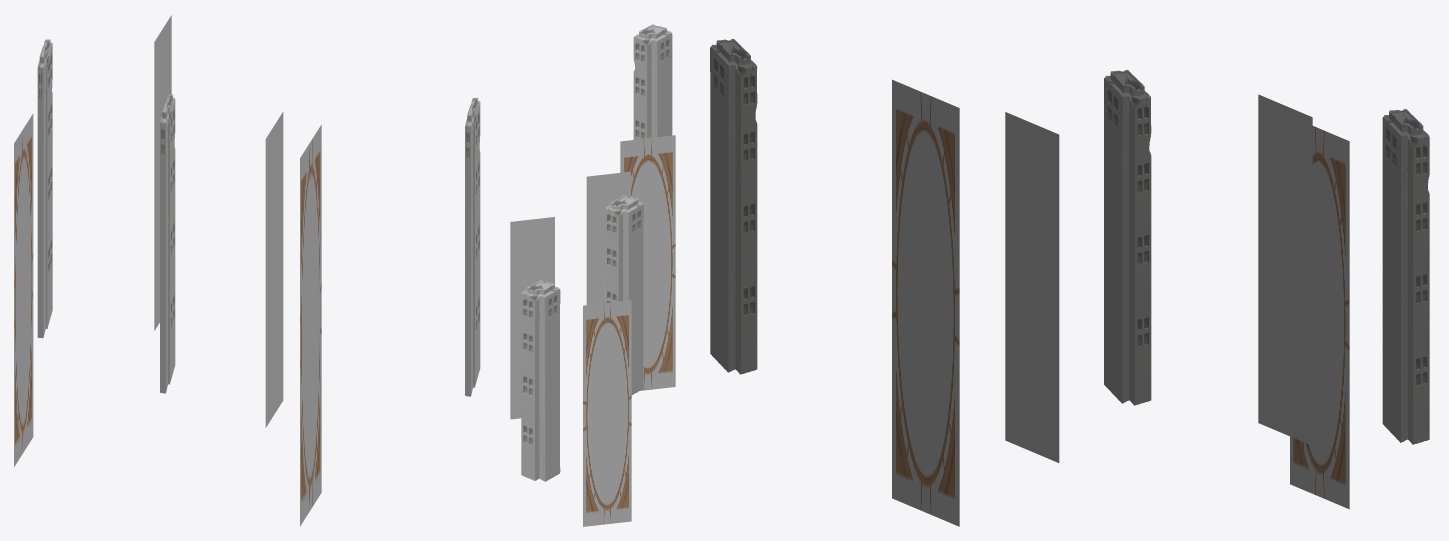
The model's file is Main_1004_obj_04.fbx.
3 views of the same model, side by side, from view 1: azimuth 30°, elevation 25°; view 2: azimuth 150°, elevation 25°; view 3: azimuth 270°, elevation 25° (orthographic). The views are drawn at different scales.
Visible parts, largest first — view 1: Main_1003_Tex_01_07, Main_1003_Tex_01_07.001, Main_1003_Tex_01_05, Main_1003_Tex_01_06.002, Main_1003_Tex_01_06, Main_1003_Tex_01_06.001, Main_1003_Tex_01_05.001; view 2: Main_1003_Tex_01_07.001, Main_1003_Tex_01_07, Main_1003_Tex_01_06.002, Main_1003_Tex_01_06.001, Main_1003_Tex_01_05.001, Main_1003_Tex_01_06, Main_1003_Tex_01_05; view 3: Main_1003_Tex_01_07, Main_1003_Tex_01_05.001, Main_1003_Tex_01_05, Main_1003_Tex_01_06.002, Main_1003_Tex_01_06, Main_1003_Tex_01_06.001, Main_1003_Tex_01_07.001.
Boxes of the visible parts, box(x1,y1,x2,y2) form: Main_1003_Tex_01_07: box(300, 124, 321, 526); Main_1003_Tex_01_07.001: box(14, 113, 33, 466); Main_1003_Tex_01_05: box(265, 112, 283, 427); Main_1003_Tex_01_06.002: box(37, 39, 52, 338); Main_1003_Tex_01_06: box(465, 97, 480, 396); Main_1003_Tex_01_06.001: box(160, 94, 175, 393); Main_1003_Tex_01_05.001: box(154, 15, 171, 330); Main_1003_Tex_01_07.001: box(583, 300, 631, 526); Main_1003_Tex_01_07: box(620, 135, 675, 390); Main_1003_Tex_01_06.002: box(521, 280, 560, 481); Main_1003_Tex_01_06.001: box(605, 195, 643, 395); Main_1003_Tex_01_05.001: box(510, 217, 554, 419); Main_1003_Tex_01_06: box(633, 24, 672, 139); Main_1003_Tex_01_05: box(586, 171, 630, 304); Main_1003_Tex_01_07: box(892, 79, 959, 526); Main_1003_Tex_01_05.001: box(1258, 94, 1312, 445); Main_1003_Tex_01_05: box(1005, 112, 1059, 462); Main_1003_Tex_01_06.002: box(1382, 109, 1429, 444); Main_1003_Tex_01_06: box(710, 39, 757, 374); Main_1003_Tex_01_06.001: box(1104, 70, 1151, 405); Main_1003_Tex_01_07.001: box(1290, 126, 1349, 509).
Bounding box in the file's own units: 188 × 386 × 443.
